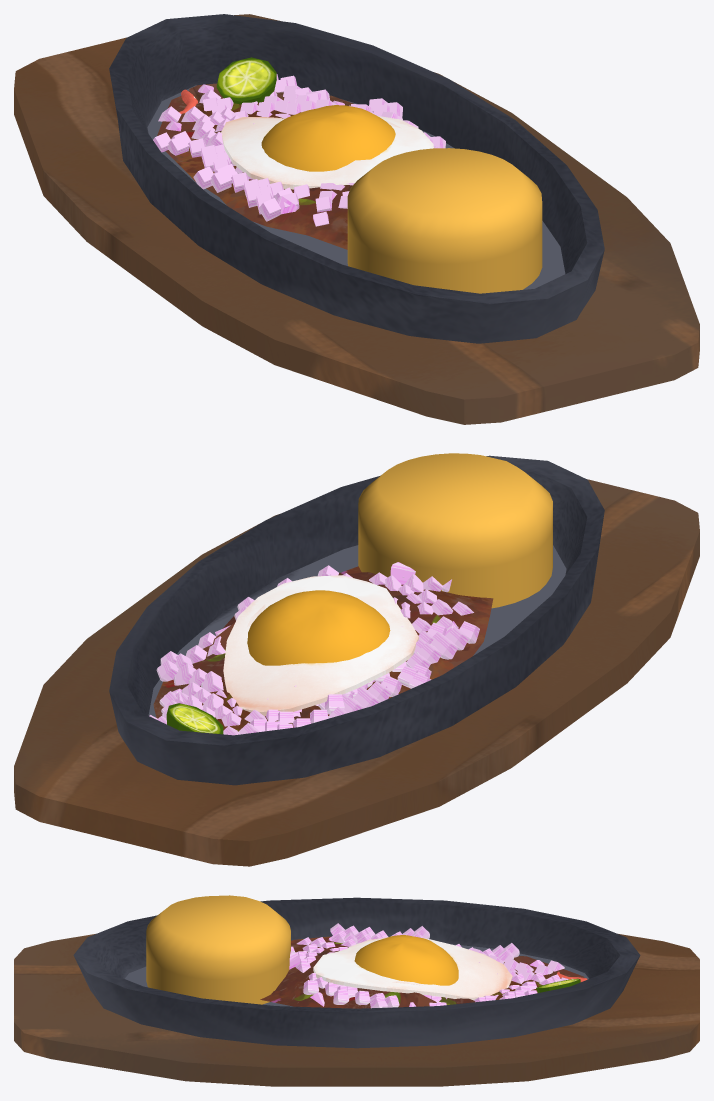
Rendered from Sisig3D.glb.
3 renders of one model, top to bottom at view 1: azimuth 30°, elevation 25°; view 2: azimuth 150°, elevation 25°; view 3: azimuth 270°, elevation 25°, orthographic. The views are drawn at different scales.
Visible parts, largest first — view 1: SisigPlate, Plate, Cylinder.001, Sphere, FriedEgg, Meat, Calamansi; view 2: SisigPlate, Plate, Cylinder.001, FriedEgg, Sphere, Meat, Calamansi; view 3: SisigPlate, Plate, Cylinder.001, FriedEgg, Sphere, Meat, Calamansi.
Boxes of the visible parts, <box> form: SisigPlate: <box>14,14,699,424</box>; Plate: <box>109,14,604,343</box>; Cylinder.001: <box>347,148,542,293</box>; Sphere: <box>261,105,395,171</box>; FriedEgg: <box>221,116,433,189</box>; Meat: <box>157,83,353,249</box>; Calamansi: <box>216,57,276,104</box>; SisigPlate: <box>14,479,699,866</box>; Plate: <box>109,455,604,785</box>; Cylinder.001: <box>358,453,552,608</box>; FriedEgg: <box>223,575,418,715</box>; Sphere: <box>247,590,390,665</box>; Meat: <box>153,566,493,731</box>; Calamansi: <box>166,703,223,734</box>; SisigPlate: <box>14,934,699,1086</box>; Plate: <box>73,897,640,1048</box>; Cylinder.001: <box>146,895,290,1004</box>; FriedEgg: <box>313,937,512,1000</box>; Sphere: <box>354,935,458,985</box>; Meat: <box>260,936,584,1008</box>; Calamansi: <box>536,978,580,992</box>.
Bounding box in the file's own units: 2.15 × 0.5867 × 4.06.
Materials: 9 (9 with a texture image).
